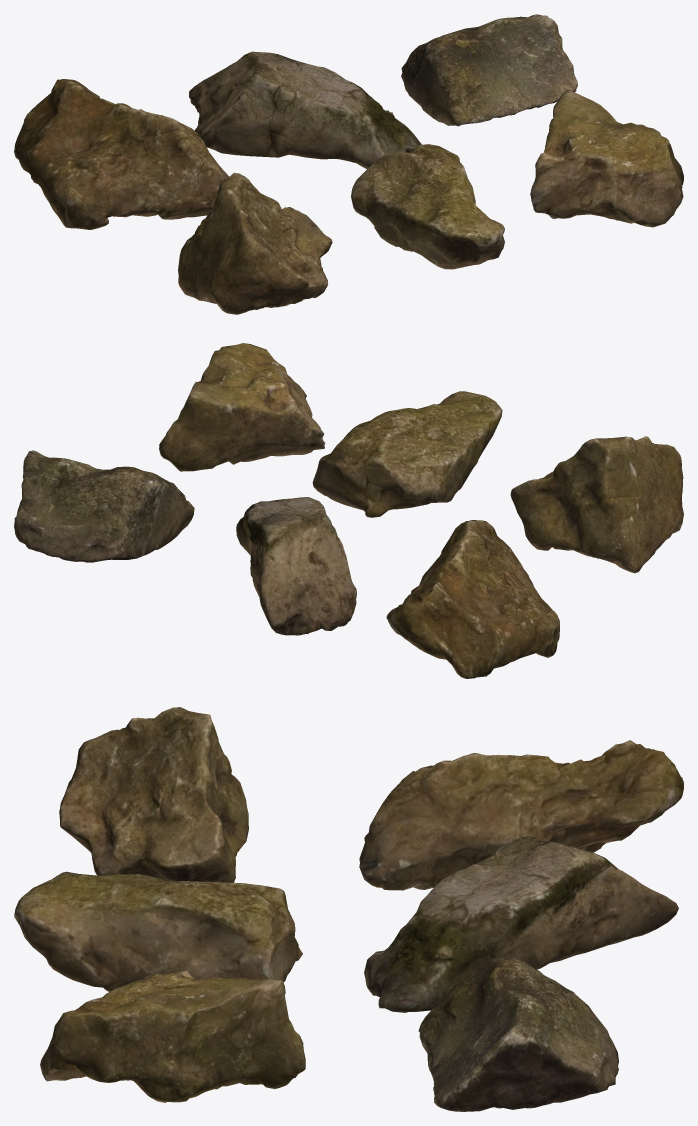
The model's file is rock_moss_set_01.glb.
3 views of the same model, one above another, from view 1: azimuth 30°, elevation 25°; view 2: azimuth 150°, elevation 25°; view 3: azimuth 270°, elevation 25° (orthographic). The views are drawn at different scales.
Parts seen in each view (by area): view 1: rock_moss_set_01_rock01, rock_moss_set_01_rock02, rock_moss_set_01_rock06, rock_moss_set_01_rock04, rock_moss_set_01_rock03, rock_moss_set_01_rock05; view 2: rock_moss_set_01_rock04, rock_moss_set_01_rock01, rock_moss_set_01_rock05, rock_moss_set_01_rock03, rock_moss_set_01_rock06, rock_moss_set_01_rock02; view 3: rock_moss_set_01_rock01, rock_moss_set_01_rock02, rock_moss_set_01_rock05, rock_moss_set_01_rock04, rock_moss_set_01_rock06, rock_moss_set_01_rock03.
Part boxes in pixels (x1,y1,x2,y2): rock_moss_set_01_rock01: [14, 79, 229, 229]; rock_moss_set_01_rock02: [189, 51, 421, 168]; rock_moss_set_01_rock06: [530, 89, 683, 227]; rock_moss_set_01_rock04: [178, 172, 332, 314]; rock_moss_set_01_rock03: [401, 14, 577, 126]; rock_moss_set_01_rock05: [351, 144, 504, 269]; rock_moss_set_01_rock04: [510, 436, 683, 573]; rock_moss_set_01_rock01: [386, 520, 559, 678]; rock_moss_set_01_rock05: [312, 391, 502, 517]; rock_moss_set_01_rock03: [14, 450, 194, 562]; rock_moss_set_01_rock06: [159, 343, 325, 471]; rock_moss_set_01_rock02: [236, 497, 356, 635]; rock_moss_set_01_rock01: [359, 740, 683, 890]; rock_moss_set_01_rock02: [364, 836, 678, 1012]; rock_moss_set_01_rock05: [14, 871, 302, 991]; rock_moss_set_01_rock04: [59, 707, 248, 882]; rock_moss_set_01_rock06: [40, 970, 305, 1102]; rock_moss_set_01_rock03: [418, 956, 618, 1111].
Size of the model in its own units: 8 by 1.77 by 6.94.
Materials: 1 (1 with a texture image).
